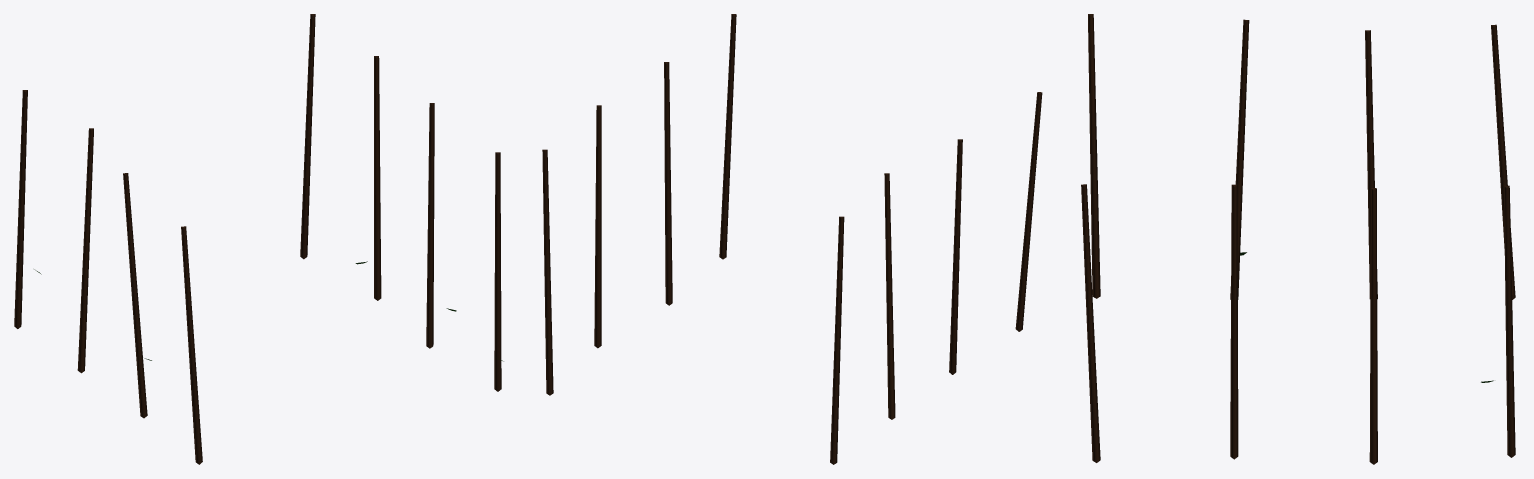
The model's file is fm_yam_1_lod1.glb.
3 renders of one model, left to right at view 1: azimuth 30°, elevation 25°; view 2: azimuth 150°, elevation 25°; view 3: azimuth 270°, elevation 25°, orthographic. The views are drawn at different scales.
Visible parts, largest first — view 1: fm_yam_1_lod1; view 2: fm_yam_1_lod1; view 3: fm_yam_1_lod1.
Part boxes in pixels (x1=…): fm_yam_1_lod1: x1=14, y1=14, x2=503, y2=464; fm_yam_1_lod1: x1=542, y1=14, x2=1042, y2=464; fm_yam_1_lod1: x1=1081, y1=14, x2=1515, y2=464.
Bounding box in the file's own units: 2.31 × 1.6 × 2.37.
